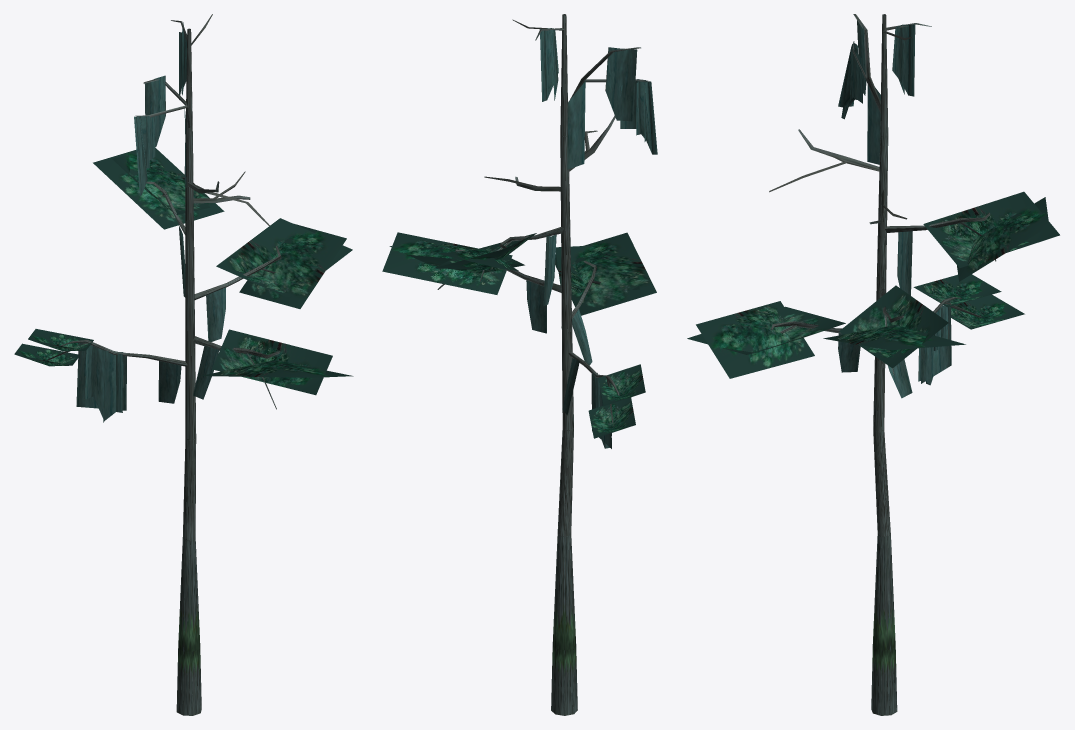
The model's file is swamp_tree_thin.fbx.
The picture shows the model from 3 angles, left to right: view 1: azimuth 30°, elevation 25°; view 2: azimuth 150°, elevation 25°; view 3: azimuth 270°, elevation 25°; orthographic projection. The views are drawn at different scales.
Parts seen in each view (by area): view 1: leaves, moss, trunk, leaves_28, branch_1; view 2: leaves, trunk, moss, leaves_28; view 3: leaves, trunk, moss, leaves_28, branch_7, branch_14.
Boxes of the visible parts, bbox=[...] form: leaves: bbox=[28, 148, 353, 395]; moss: bbox=[76, 22, 225, 422]; trunk: bbox=[176, 28, 201, 715]; leaves_28: bbox=[14, 343, 78, 366]; branch_1: bbox=[46, 340, 187, 366]; leaves: bbox=[382, 232, 656, 405]; trunk: bbox=[551, 14, 577, 715]; moss: bbox=[526, 28, 657, 448]; leaves_28: bbox=[588, 397, 635, 438]; leaves: bbox=[687, 191, 1059, 378]; trunk: bbox=[871, 14, 897, 715]; moss: bbox=[838, 20, 951, 398]; leaves_28: bbox=[951, 294, 1024, 329]; branch_7: bbox=[769, 129, 879, 192]; branch_14: bbox=[885, 212, 996, 261].
Size of the model in its own units: 4674 by 10467 by 5102.
Materials: 2 (2 with a texture image).
